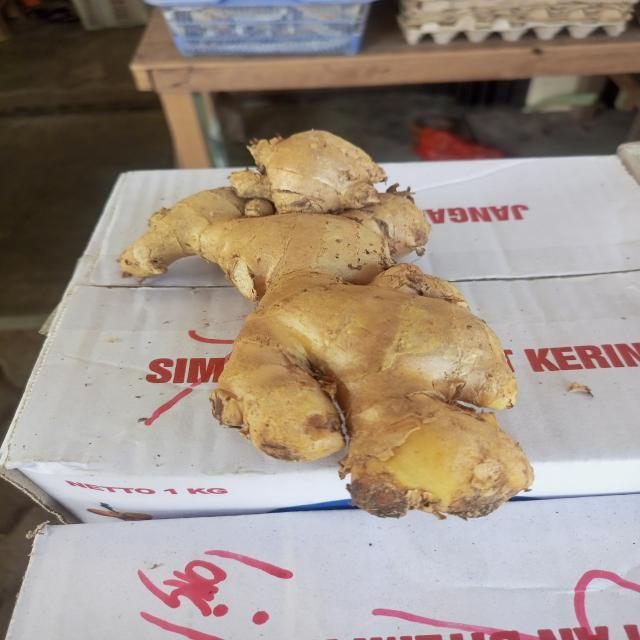ginger: (145, 126, 523, 514)
